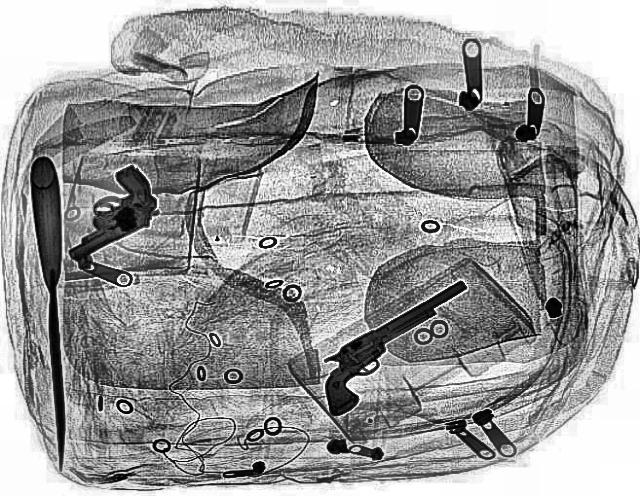Gun: (284, 280, 508, 418), (28, 162, 182, 264)
Knife: (26, 154, 76, 472)
